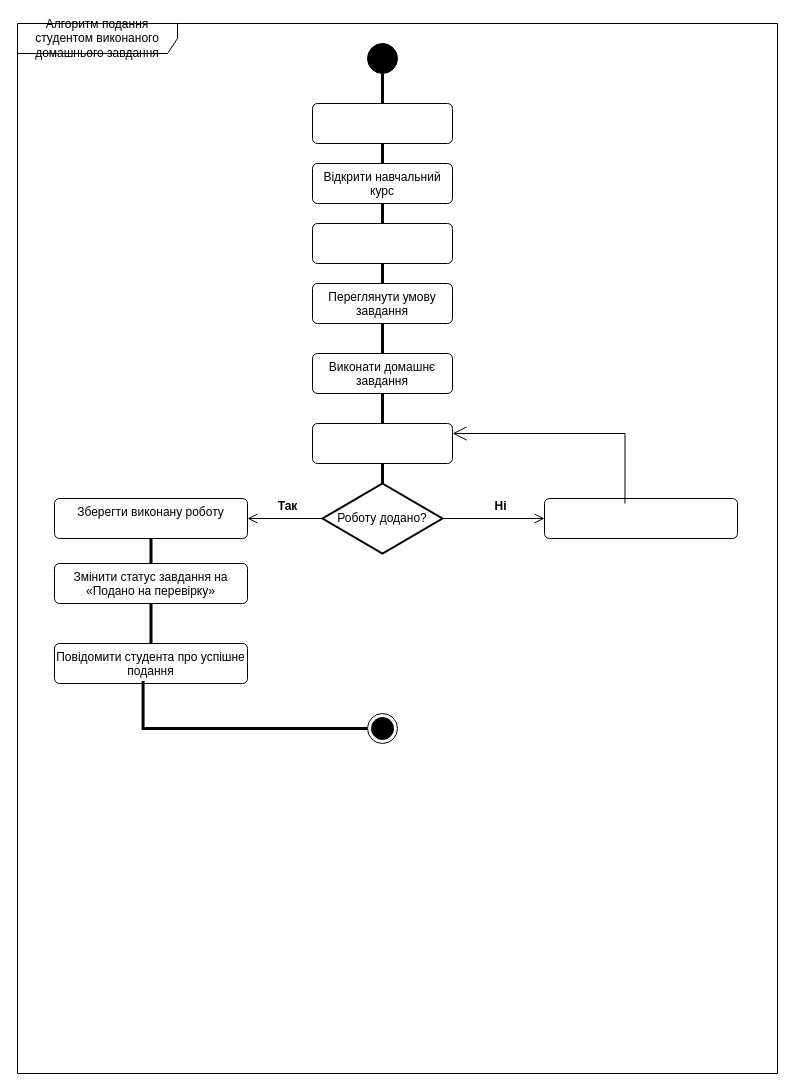
Image size: 795x1091. Some labels were removed from this diagram. The shapes that lost their labels are listed below. From the top down, each one's centre as x and y in pixels, then its label:
At point (382, 123): "Авторизуватися в системі".
At point (382, 243): "Обрати домашнє завдання".
At point (382, 443): "Додати виконану роботу".
At point (641, 518): "Повідомити про необхідність додати роботу".
